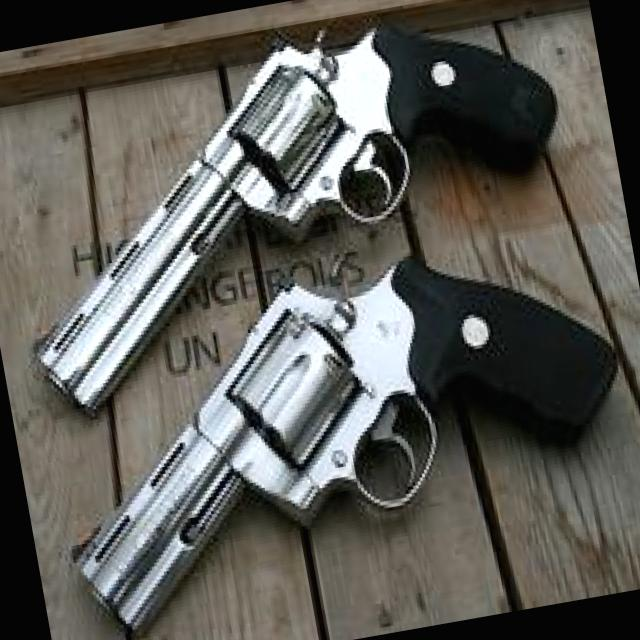revolver: (0, 0, 640, 429)
